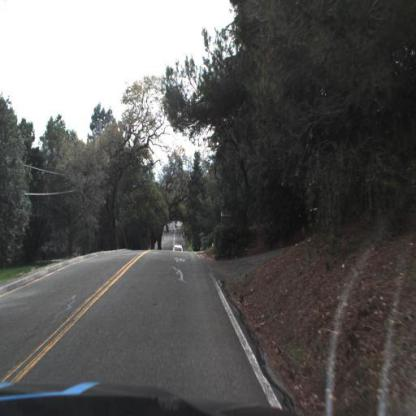car: (170, 240, 185, 256)
